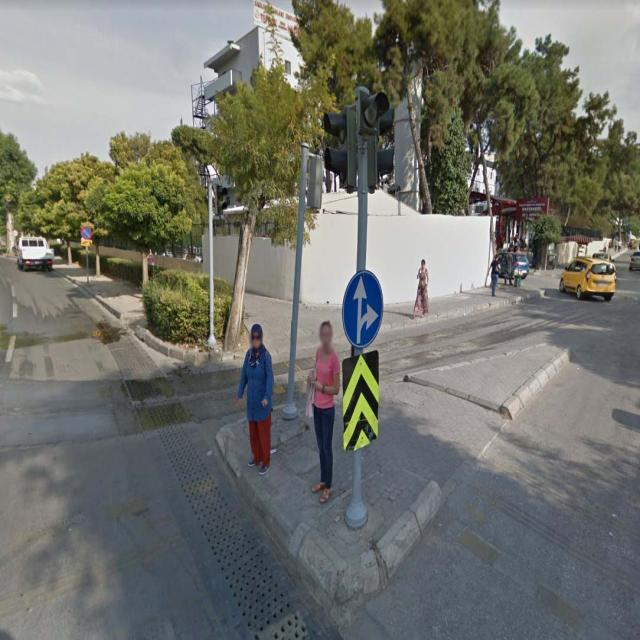ilerisag: (343, 271, 383, 346)
parkyasak: (81, 227, 92, 240)
